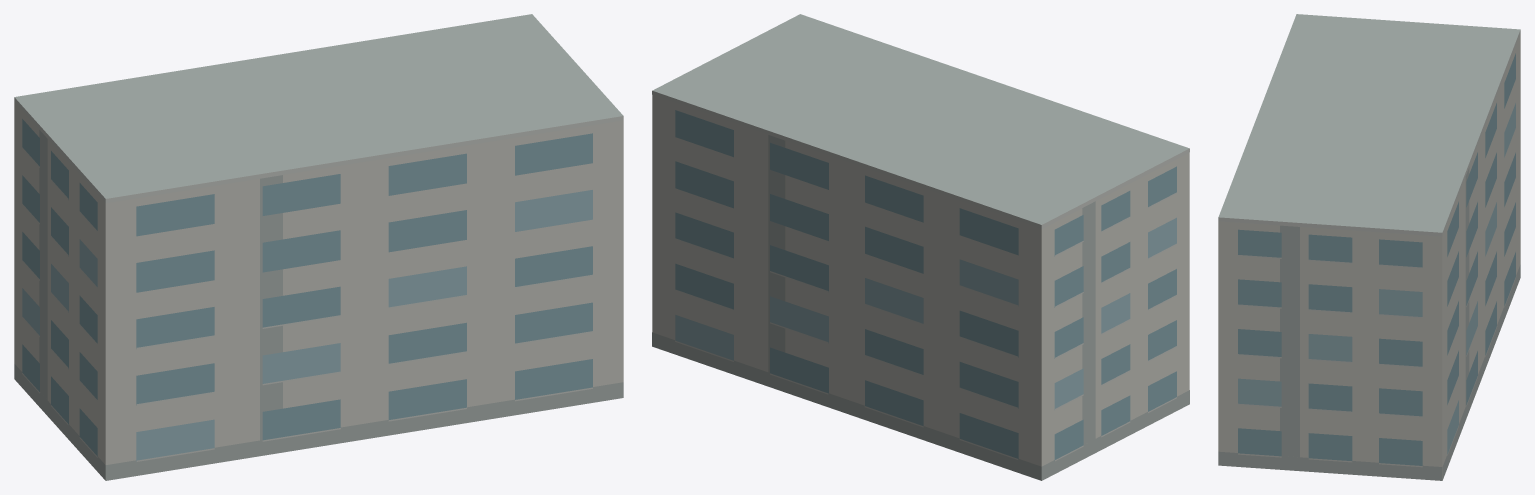
Rendered from residential-3335ec73-5627-4fcd-8c19-bcbe6cae7444.glb.
The picture shows the model from 3 angles, left to right: view 1: azimuth 30°, elevation 25°; view 2: azimuth 150°, elevation 25°; view 3: azimuth 270°, elevation 25°; orthographic projection. The views are drawn at different scales.
Parts seen in each view (by area): view 1: residential-3335ec73-5627-4fcd-8c19-bcbe6cae7444.tmp; view 2: residential-3335ec73-5627-4fcd-8c19-bcbe6cae7444.tmp; view 3: residential-3335ec73-5627-4fcd-8c19-bcbe6cae7444.tmp.
Boxes of the visible parts, left/top/right/bottom form: residential-3335ec73-5627-4fcd-8c19-bcbe6cae7444.tmp: left=14, top=14, right=623, bottom=480; residential-3335ec73-5627-4fcd-8c19-bcbe6cae7444.tmp: left=652, top=14, right=1189, bottom=480; residential-3335ec73-5627-4fcd-8c19-bcbe6cae7444.tmp: left=1218, top=14, right=1520, bottom=480.
Bounding box in the file's own units: 28.84 × 15.25 × 16.84.
